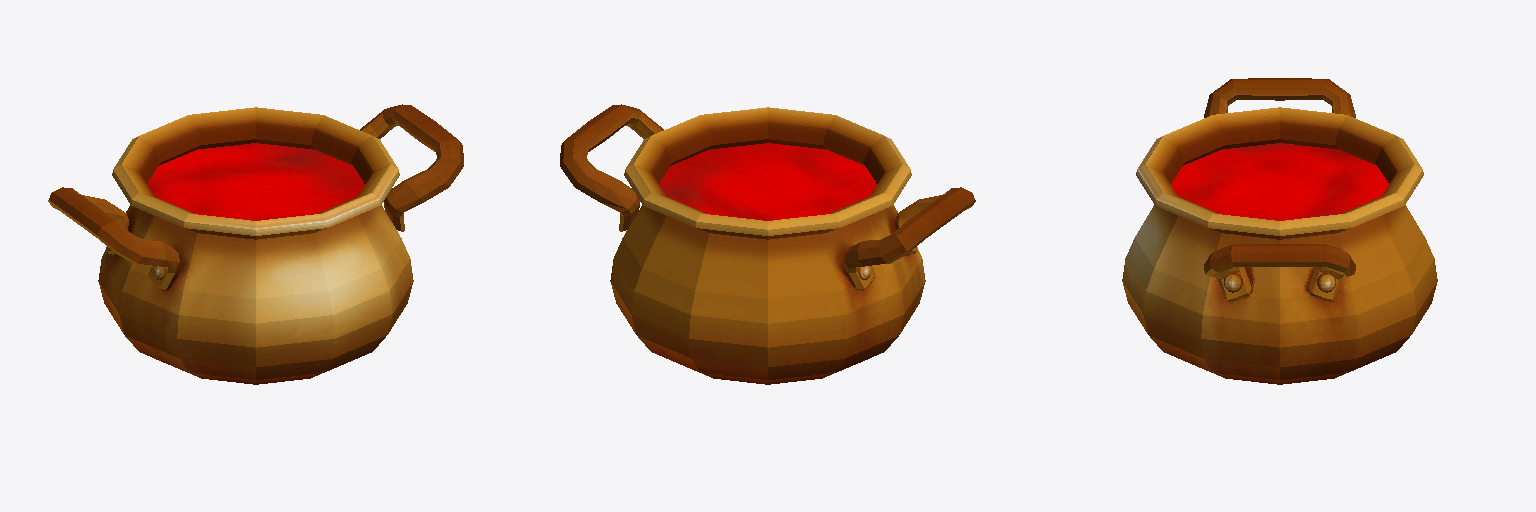
3 renders of one model, left to right at view 1: azimuth 30°, elevation 25°; view 2: azimuth 150°, elevation 25°; view 3: azimuth 270°, elevation 25°, orthographic.
Visible parts, largest first — view 1: polygon2, topoDaSopa, polygon3; view 2: polygon2, topoDaSopa, polygon3; view 3: polygon2, topoDaSopa, polygon3, polygon4.
Part boxes in pixels (left/top/right/bottom): polygon2: left=98, top=107, right=413, bottom=384; topoDaSopa: left=147, top=143, right=364, bottom=220; polygon3: left=48, top=104, right=463, bottom=290; polygon2: left=610, top=107, right=925, bottom=384; topoDaSopa: left=659, top=143, right=876, bottom=220; polygon3: left=560, top=104, right=975, bottom=290; polygon2: left=1122, top=107, right=1437, bottom=384; topoDaSopa: left=1171, top=143, right=1388, bottom=220; polygon3: left=1204, top=78, right=1355, bottom=301; polygon4: left=1224, top=273, right=1335, bottom=292.
Bounding box in the file's own units: 1.71 × 0.8305 × 1.27.
4 materials, 4 textured.